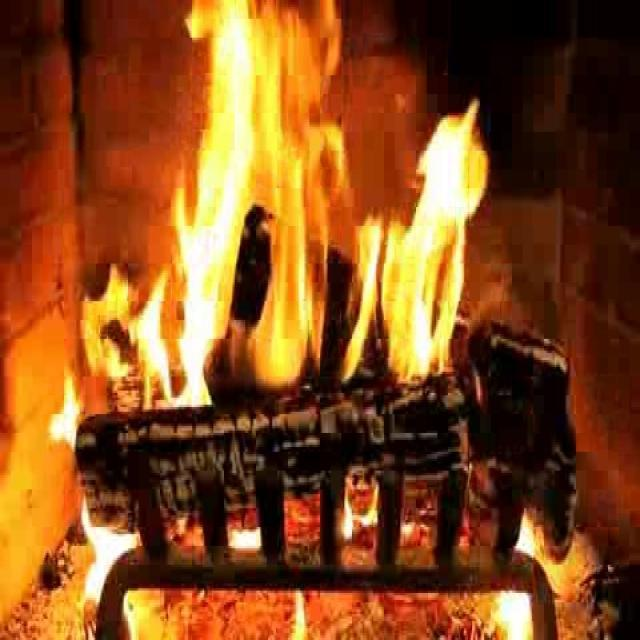Fire: (157, 16, 503, 406)
